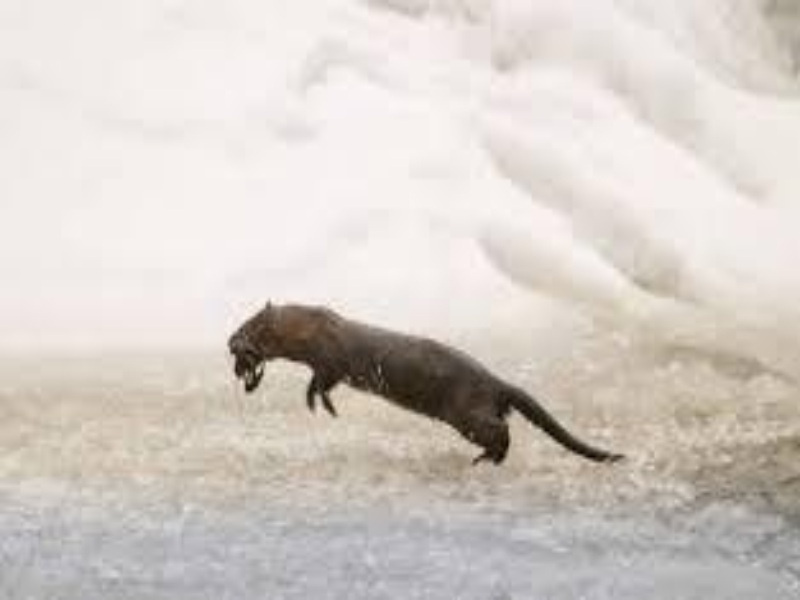minkish: (224, 297, 627, 471)
